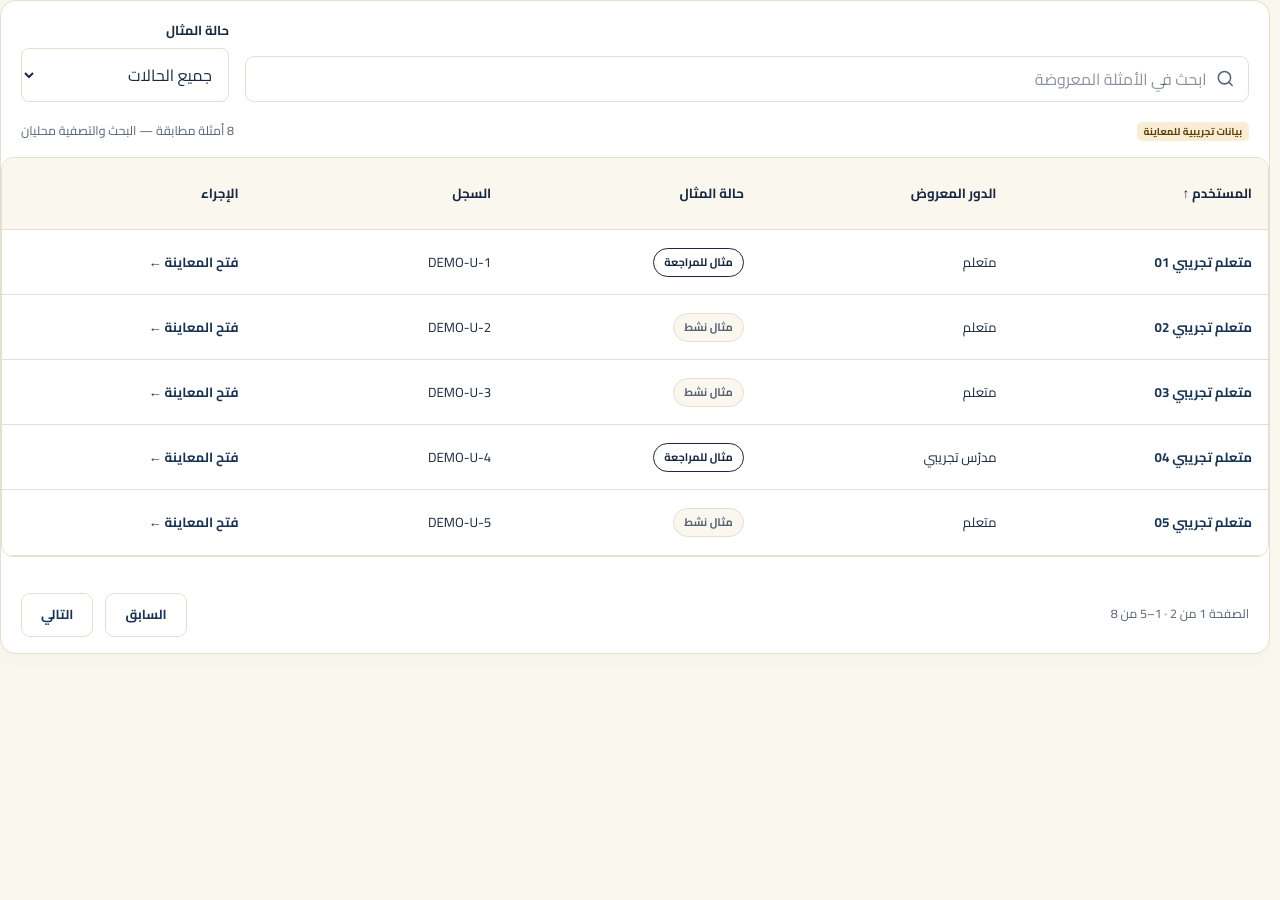
Test: complete admin frontend previews › shows a recoverable no-results state and exposes sort direction
Click the button "المستخدم ↑".
click(1217, 193)  # box [1182, 175, 1252, 212]
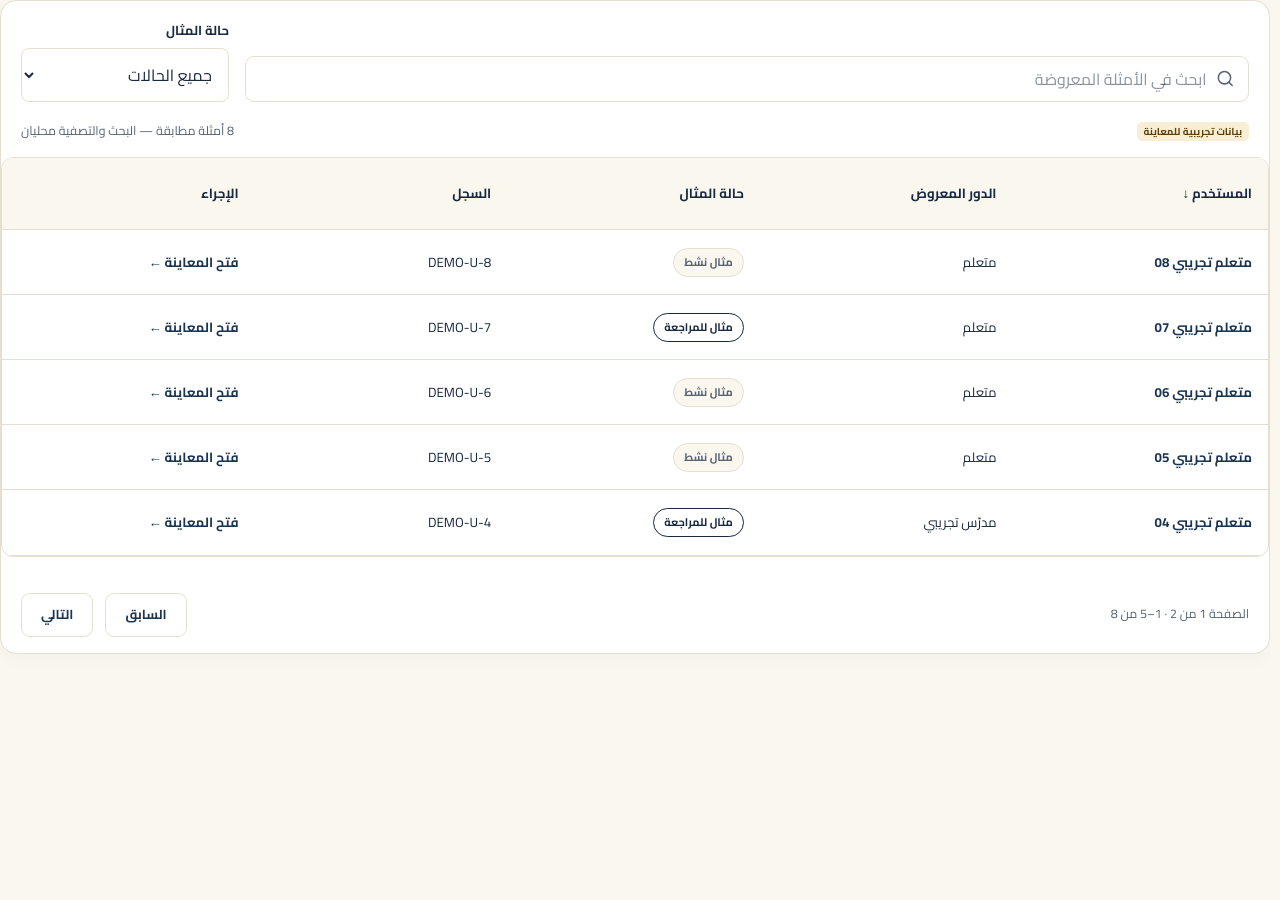
Type "غير موجود" into the search field.
click(728, 78); type("غير موجود")  # box [249, 58, 1206, 100]
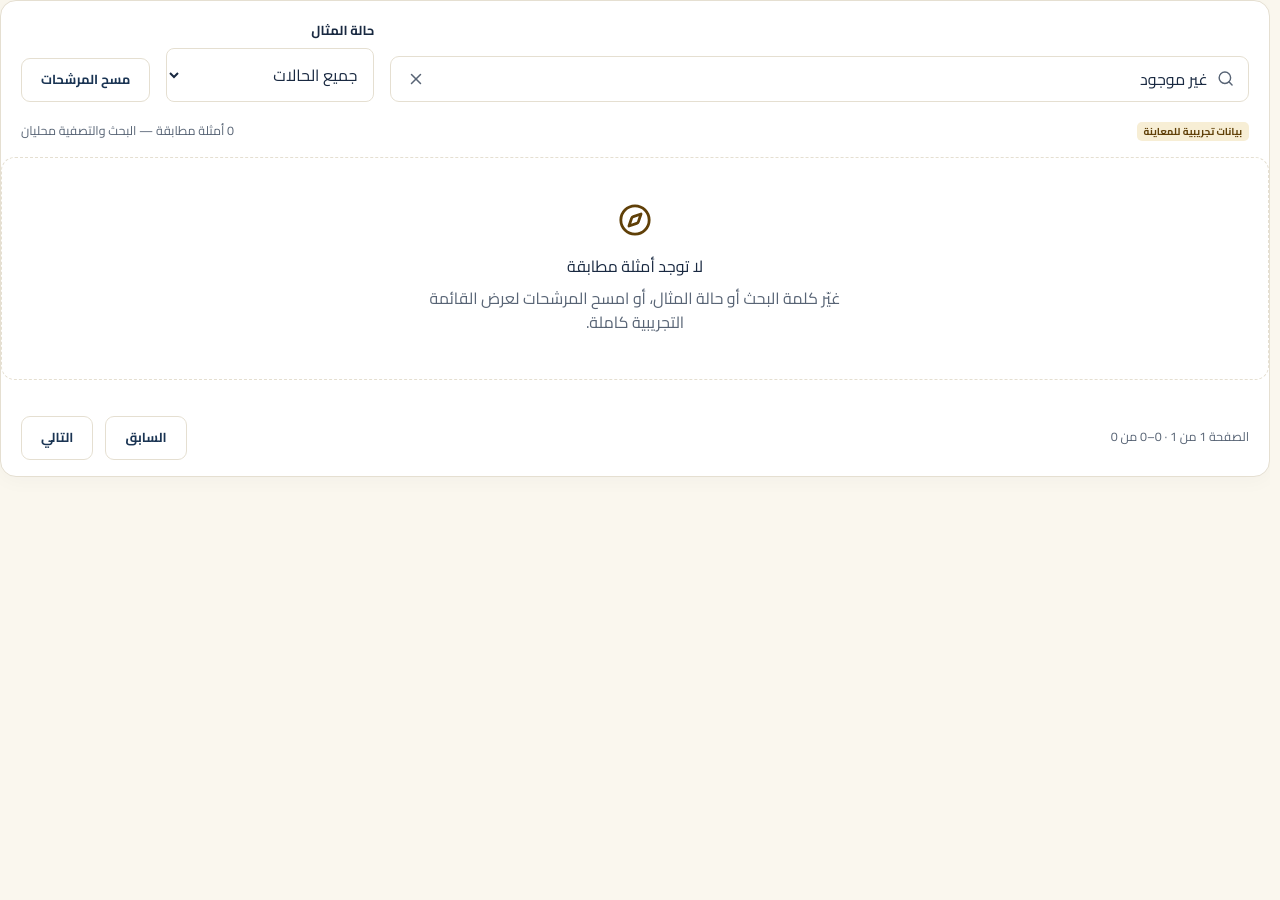
Expected: the heading "لا توجد أمثلة مطابقة" is shown, [567, 254, 703, 278]
Click the button "مسح المرشحات".
click(86, 80)  # box [21, 58, 150, 102]
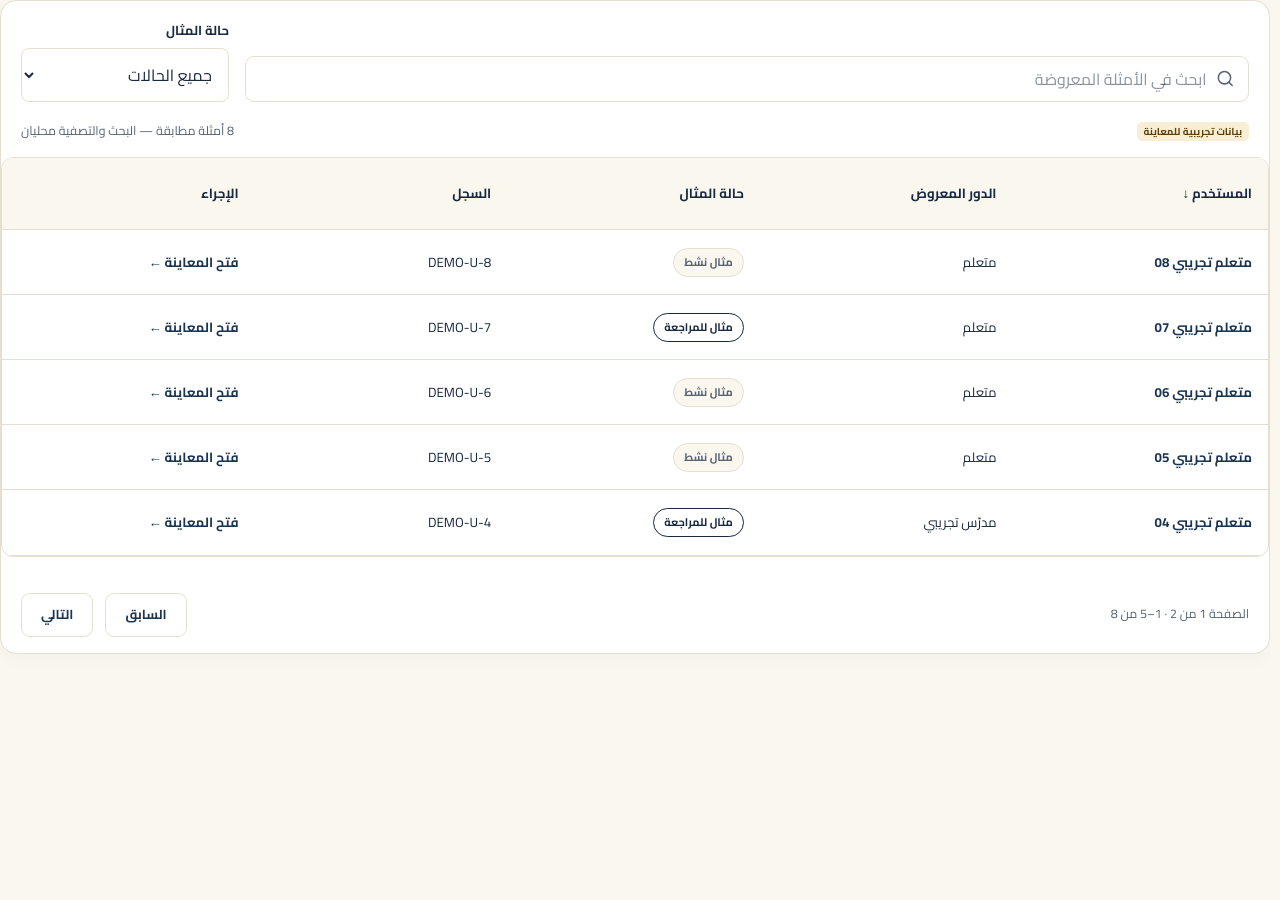
Expected: the table is shown, [2, 158, 1268, 556]
